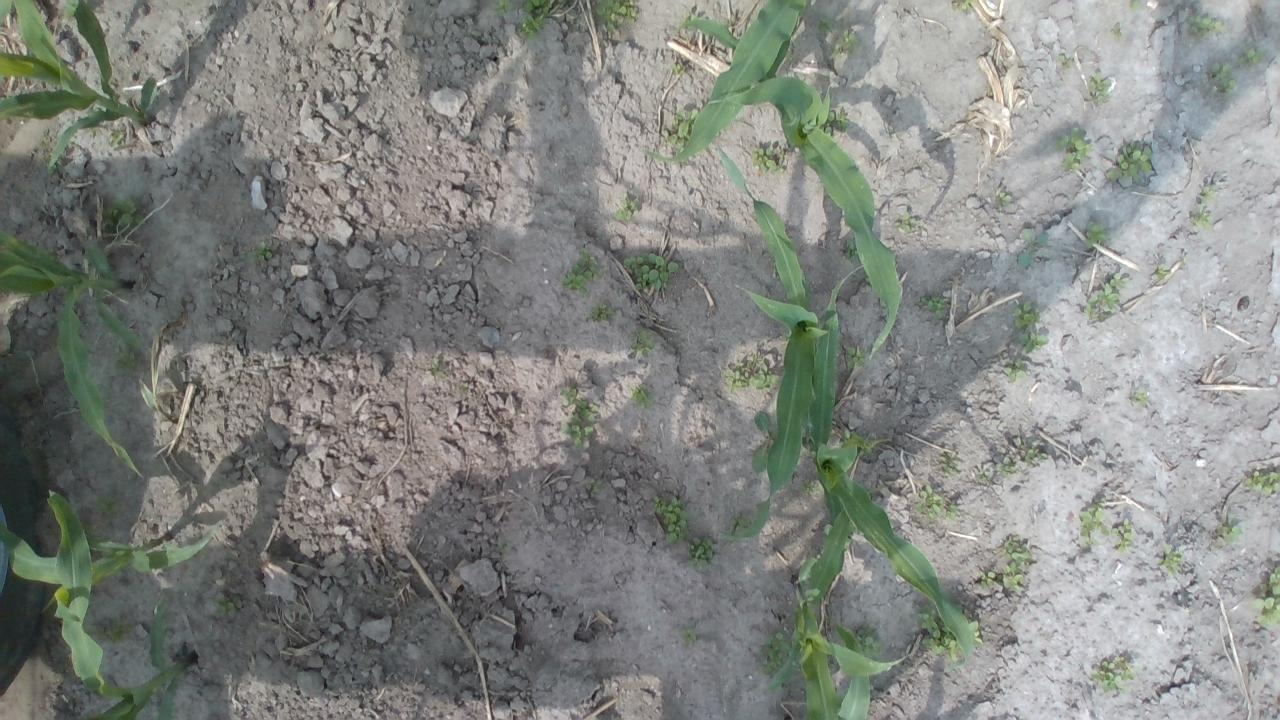Maize: (681, 18, 904, 361), (663, 103, 830, 545), (799, 264, 972, 674), (0, 231, 175, 477), (44, 489, 196, 720), (0, 488, 214, 620), (0, 0, 158, 167), (646, 0, 806, 164), (774, 581, 910, 720)
Weeds: (558, 387, 600, 450), (560, 246, 608, 298), (1083, 270, 1129, 323), (724, 351, 782, 391), (624, 253, 680, 292), (758, 628, 804, 674), (999, 534, 1032, 594), (1012, 300, 1048, 353), (1107, 144, 1154, 184), (102, 195, 151, 232), (1091, 655, 1136, 695), (653, 496, 689, 544), (1253, 566, 1280, 628), (1055, 128, 1092, 173), (915, 483, 958, 520), (592, 0, 640, 32), (914, 607, 944, 656), (1076, 495, 1104, 547), (751, 411, 774, 474), (518, 0, 554, 40), (92, 614, 137, 646), (1017, 228, 1049, 268), (840, 430, 880, 458), (688, 534, 718, 570), (1188, 14, 1230, 39), (750, 146, 784, 176), (1245, 468, 1280, 497), (854, 628, 882, 662), (628, 325, 655, 360), (820, 107, 850, 138), (1214, 514, 1243, 546), (1086, 70, 1112, 103), (671, 108, 700, 137), (626, 383, 656, 411), (830, 30, 860, 58), (1212, 62, 1238, 94), (613, 192, 641, 220), (919, 296, 949, 322), (942, 626, 962, 664), (111, 349, 139, 376), (1160, 544, 1182, 576), (94, 494, 120, 520), (210, 597, 242, 618), (1002, 358, 1028, 383), (1115, 518, 1133, 552), (727, 510, 752, 534), (1084, 222, 1107, 248), (252, 239, 274, 265), (663, 130, 687, 152), (998, 456, 1018, 482), (1024, 446, 1050, 466), (590, 302, 616, 322), (940, 449, 960, 473), (1238, 46, 1262, 66), (894, 214, 917, 234), (1189, 208, 1213, 227), (679, 626, 700, 646), (846, 346, 864, 369), (1152, 262, 1172, 282), (968, 621, 984, 645), (488, 0, 512, 16), (846, 238, 860, 264), (107, 127, 126, 146), (816, 15, 834, 34), (1132, 388, 1150, 407), (47, 160, 65, 178), (1056, 52, 1075, 69), (798, 482, 818, 497), (995, 191, 1013, 207), (978, 569, 995, 585), (80, 520, 96, 536), (587, 479, 602, 496), (952, 0, 972, 12), (82, 221, 94, 240), (1201, 185, 1216, 200), (670, 63, 686, 76), (1102, 526, 1120, 536), (724, 14, 739, 26), (1126, 0, 1142, 11), (46, 248, 58, 260), (498, 542, 510, 554), (784, 46, 794, 60), (159, 319, 178, 326), (975, 472, 989, 481), (94, 103, 108, 112), (822, 524, 832, 536), (430, 360, 440, 369), (120, 295, 128, 302), (558, 0, 566, 5)
